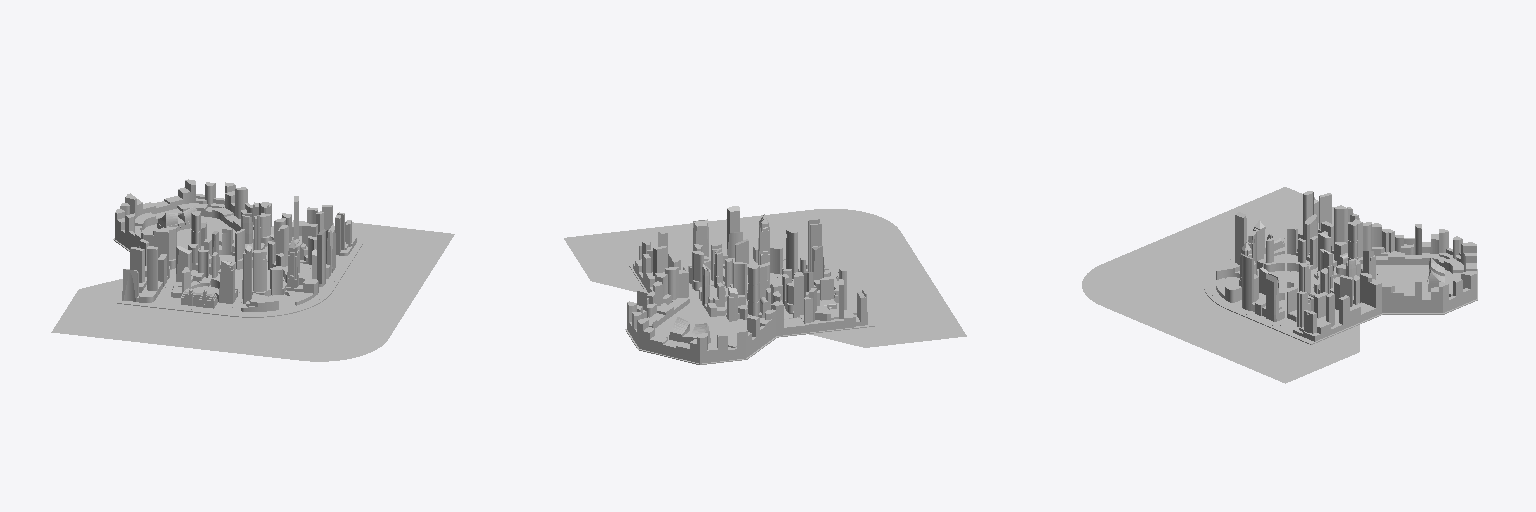
Rendered from Camellia City.obj.
The picture shows the model from 3 angles: view 1: azimuth 30°, elevation 25°; view 2: azimuth 150°, elevation 25°; view 3: azimuth 270°, elevation 25°; orthographic projection.
Parts seen in each view (by area): view 1: Mesh1 Wharf_Ground_Base1 Model, Mesh21 Uptown_Camellia_City1 Model, Mesh5 Camellia_City_World_Center1 Model, Mesh3 Camellia_City_Promenade1 Model, Mesh24 Camellia_City_Financial_Center1 Model, Mesh11 University_Place1 Model, Mesh31 Camellia_City_Center1 Model, Mesh30 Camellia_City_Center1 Model, Mesh34 Midtown_Camellia_City1 Model, Mesh33 Midtown_Camellia_City1 Model, Mesh26 Camellia_City_Financial_Center1 Model, Mesh14 University_Place1 Model (+2 smaller); view 2: Mesh1 Wharf_Ground_Base1 Model, Mesh21 Uptown_Camellia_City1 Model, Mesh5 Camellia_City_World_Center1 Model, Mesh34 Midtown_Camellia_City1 Model, Mesh24 Camellia_City_Financial_Center1 Model, Mesh3 Camellia_City_Promenade1 Model, Mesh33 Midtown_Camellia_City1 Model, Mesh11 University_Place1 Model, Mesh26 Camellia_City_Financial_Center1 Model, Mesh20 Camellia_City_Pok_mon_Gym1 Uptown_Camellia_City1 Model, Mesh31 Camellia_City_Center1 Model, Mesh30 Camellia_City_Center1 Model (+1 smaller); view 3: Mesh1 Wharf_Ground_Base1 Model, Mesh21 Uptown_Camellia_City1 Model, Mesh3 Camellia_City_Promenade1 Model, Mesh24 Camellia_City_Financial_Center1 Model, Mesh5 Camellia_City_World_Center1 Model, Mesh34 Midtown_Camellia_City1 Model, Mesh11 University_Place1 Model, Mesh26 Camellia_City_Financial_Center1 Model, Mesh30 Camellia_City_Center1 Model, Mesh31 Camellia_City_Center1 Model, Mesh33 Midtown_Camellia_City1 Model.
Part boxes in pixels (x1,y1,x2,y2): Mesh1 Wharf_Ground_Base1 Model: (51, 216, 454, 361); Mesh21 Uptown_Camellia_City1 Model: (115, 179, 271, 269); Mesh5 Camellia_City_World_Center1 Model: (122, 228, 169, 302); Mesh3 Camellia_City_Promenade1 Model: (282, 196, 356, 255); Mesh24 Camellia_City_Financial_Center1 Model: (299, 223, 335, 286); Mesh11 University_Place1 Model: (173, 246, 211, 293); Mesh31 Camellia_City_Center1 Model: (285, 238, 318, 305); Mesh30 Camellia_City_Center1 Model: (241, 245, 278, 311); Mesh34 Midtown_Camellia_City1 Model: (188, 211, 219, 274); Mesh33 Midtown_Camellia_City1 Model: (219, 213, 264, 256); Mesh26 Camellia_City_Financial_Center1 Model: (274, 218, 316, 266); Mesh14 University_Place1 Model: (215, 261, 236, 303); Mesh1 Wharf_Ground_Base1 Model: (564, 209, 966, 364); Mesh21 Uptown_Camellia_City1 Model: (627, 267, 783, 363); Mesh5 Camellia_City_World_Center1 Model: (793, 266, 867, 332); Mesh34 Midtown_Camellia_City1 Model: (726, 263, 770, 321); Mesh24 Camellia_City_Financial_Center1 Model: (693, 206, 748, 268); Mesh3 Camellia_City_Promenade1 Model: (633, 229, 680, 292); Mesh33 Midtown_Camellia_City1 Model: (699, 248, 727, 316); Mesh11 University_Place1 Model: (782, 272, 833, 313); Mesh26 Camellia_City_Financial_Center1 Model: (688, 243, 724, 290); Mesh20 Camellia_City_Pok_mon_Gym1 Uptown_Camellia_City1 Model: (669, 317, 710, 343); Mesh31 Camellia_City_Center1 Model: (753, 214, 785, 264); Mesh30 Camellia_City_Center1 Model: (798, 219, 830, 276); Mesh1 Wharf_Ground_Base1 Model: (1082, 187, 1477, 383); Mesh21 Uptown_Camellia_City1 Model: (1353, 219, 1476, 315); Mesh3 Camellia_City_Promenade1 Model: (1293, 275, 1360, 341); Mesh24 Camellia_City_Financial_Center1 Model: (1242, 255, 1284, 321); Mesh5 Camellia_City_World_Center1 Model: (1298, 191, 1358, 253); Mesh34 Midtown_Camellia_City1 Model: (1318, 221, 1375, 279); Mesh11 University_Place1 Model: (1287, 214, 1327, 269); Mesh26 Camellia_City_Financial_Center1 Model: (1287, 263, 1327, 317); Mesh30 Camellia_City_Center1 Model: (1216, 212, 1246, 279); Mesh31 Camellia_City_Center1 Model: (1216, 240, 1251, 302); Mesh33 Midtown_Camellia_City1 Model: (1318, 250, 1374, 295).
Size of the model in its own units: 101462 by 14016 by 86242.